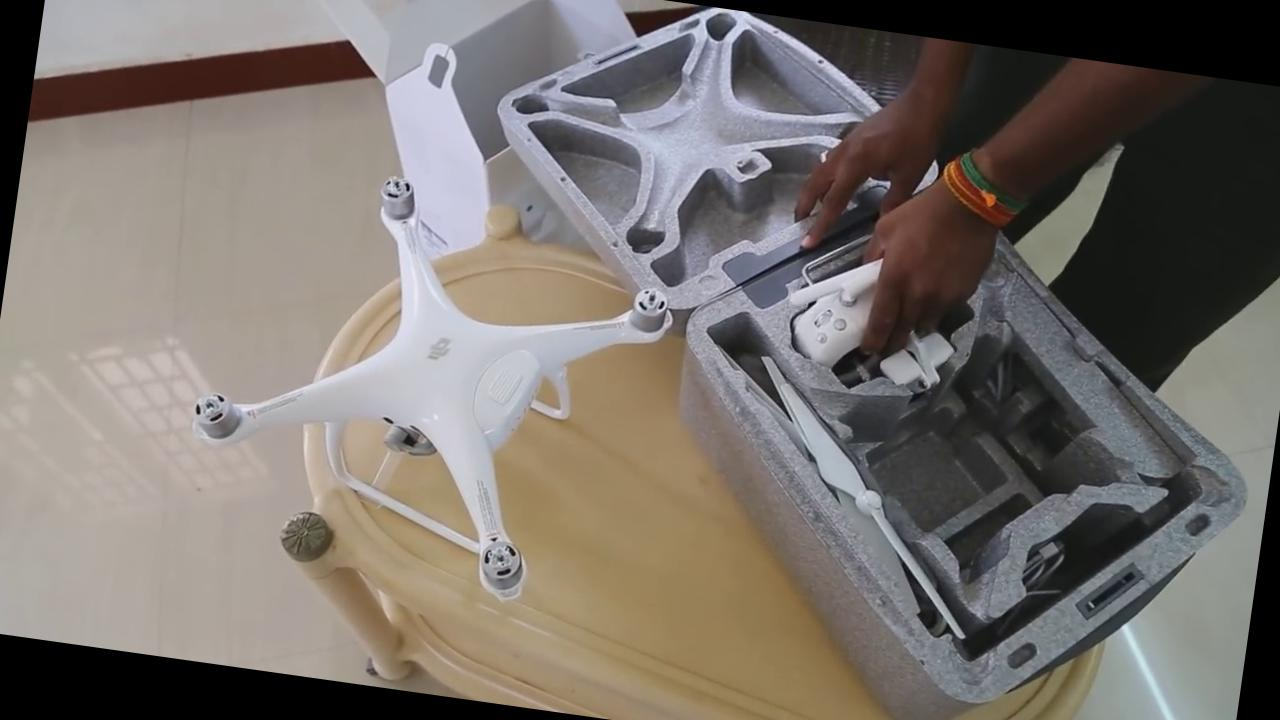drone: (144, 155, 698, 622)
